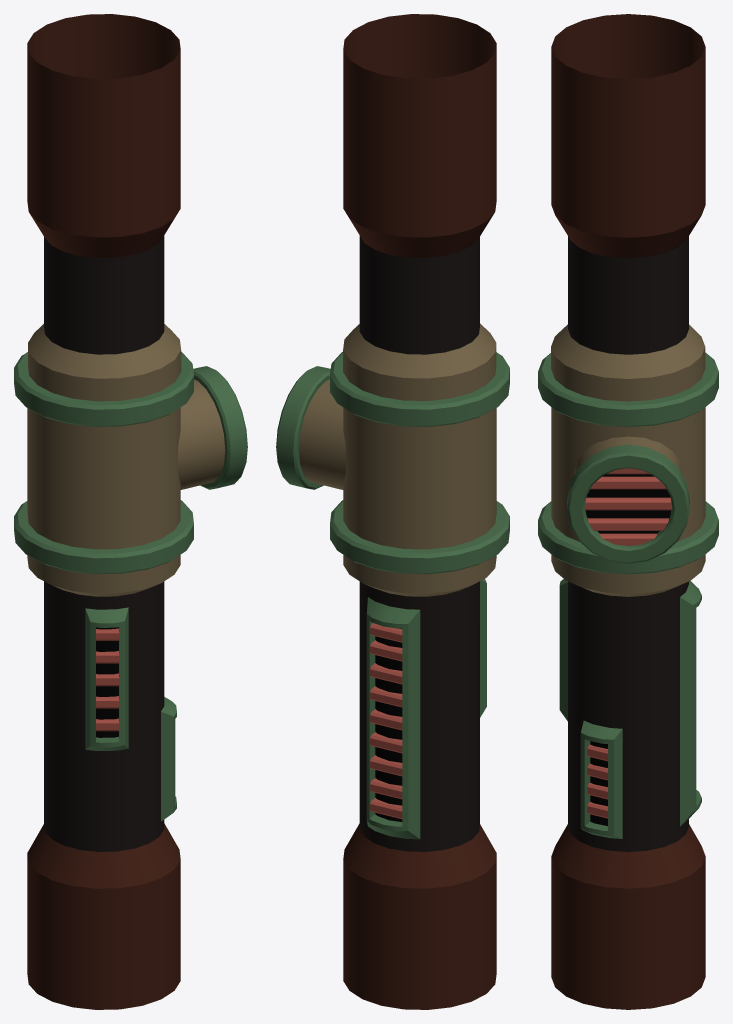
Rendered from OBJ_Var_1_Tuyau.fbx.
3 renders of one model, left to right at view 1: azimuth 30°, elevation 25°; view 2: azimuth 150°, elevation 25°; view 3: azimuth 270°, elevation 25°, orthographic.
Visible parts, largest first — view 1: OBJ_VAR_1_Tuyau_0_LOD; view 2: OBJ_VAR_1_Tuyau_0_LOD; view 3: OBJ_VAR_1_Tuyau_0_LOD.
Part boxes in pixels (left/top/right/bottom): OBJ_VAR_1_Tuyau_0_LOD: left=14, top=14, right=247, bottom=1009; OBJ_VAR_1_Tuyau_0_LOD: left=276, top=14, right=509, bottom=1009; OBJ_VAR_1_Tuyau_0_LOD: left=538, top=14, right=718, bottom=1009.
Size of the model in its own units: 1732 by 7997 by 1409.
